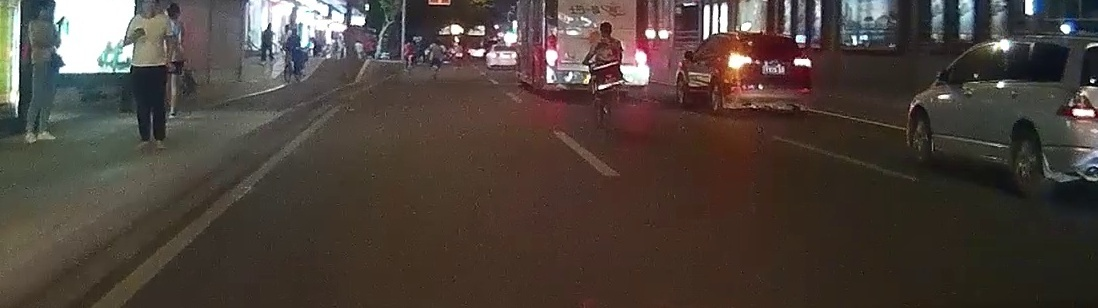L_light: (727, 52, 754, 69)
R_light: (793, 58, 811, 68)
T_light: (762, 37, 777, 41)
night-left: (725, 30, 813, 114)
